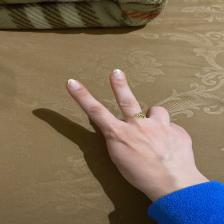two: (52, 66, 205, 188)
